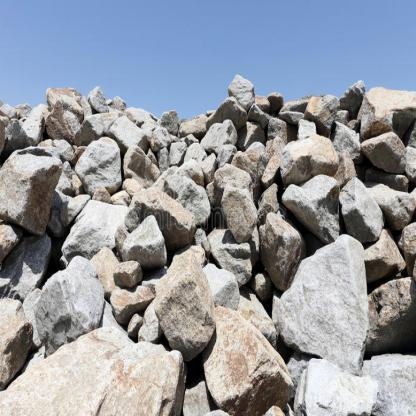Sedimentary_Limestone: (314, 272, 363, 363)
